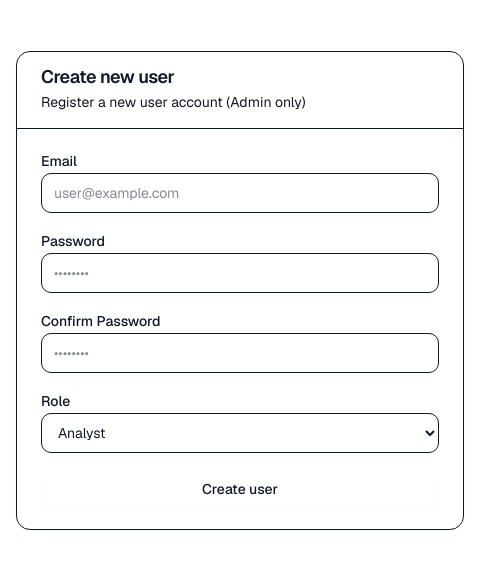
Scenario: RegisterPage › should display validation error when passwords do not match
Type "new-user@example.com" into the field labelled "Email" at (240, 192), box [41,172,439,212]
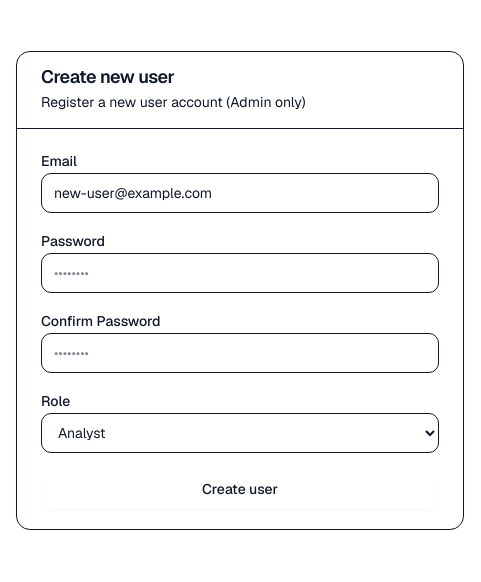
Type "password123" into the password field labelled "Password" at (240, 272), box [41,252,439,292]
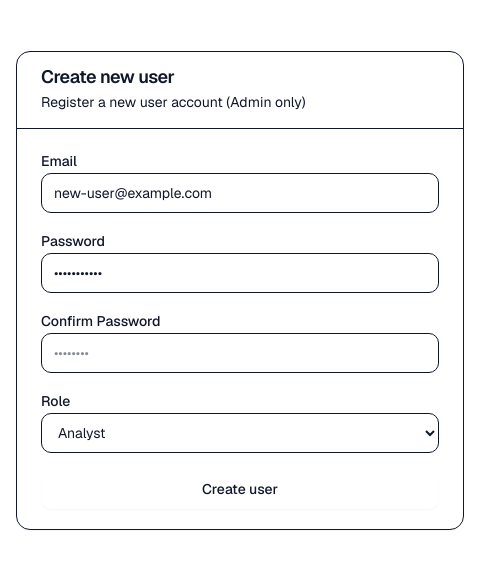
Type "different" into the password field labelled "Confirm Password" at (240, 352), box [41,332,439,372]
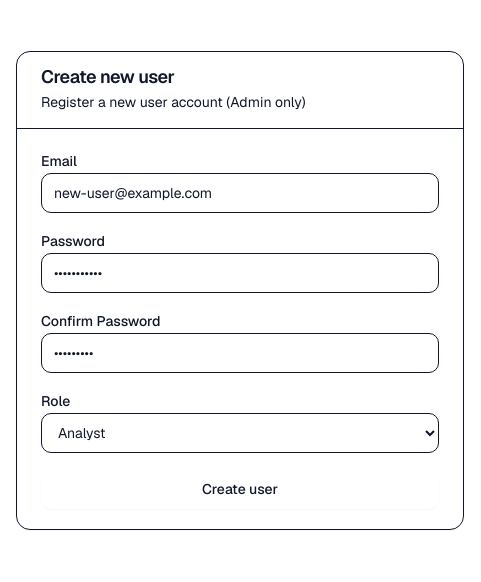
Submit the form from the button "Create user", box [41,468,439,508]
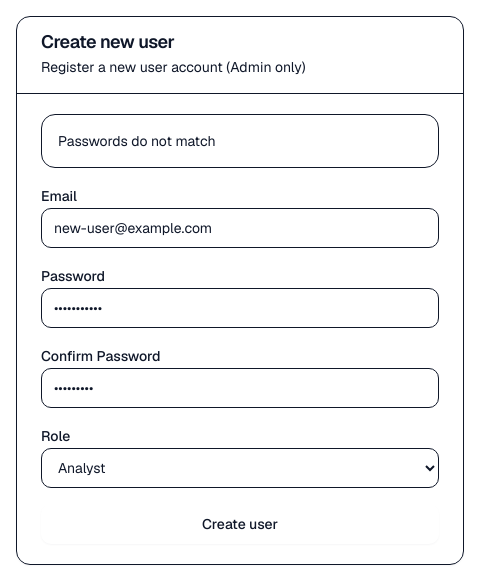
Expected: the text "Passwords do not match" is shown, [58,132,216,150]
